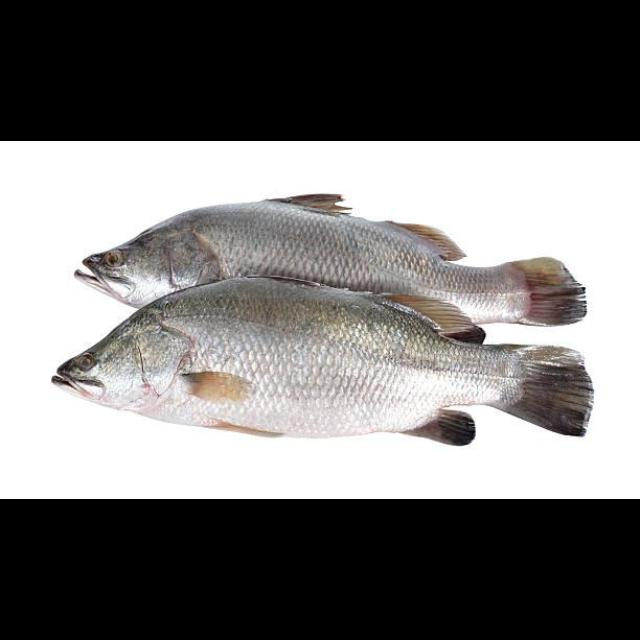Seabass: (50, 276, 594, 444), (69, 192, 586, 330)
